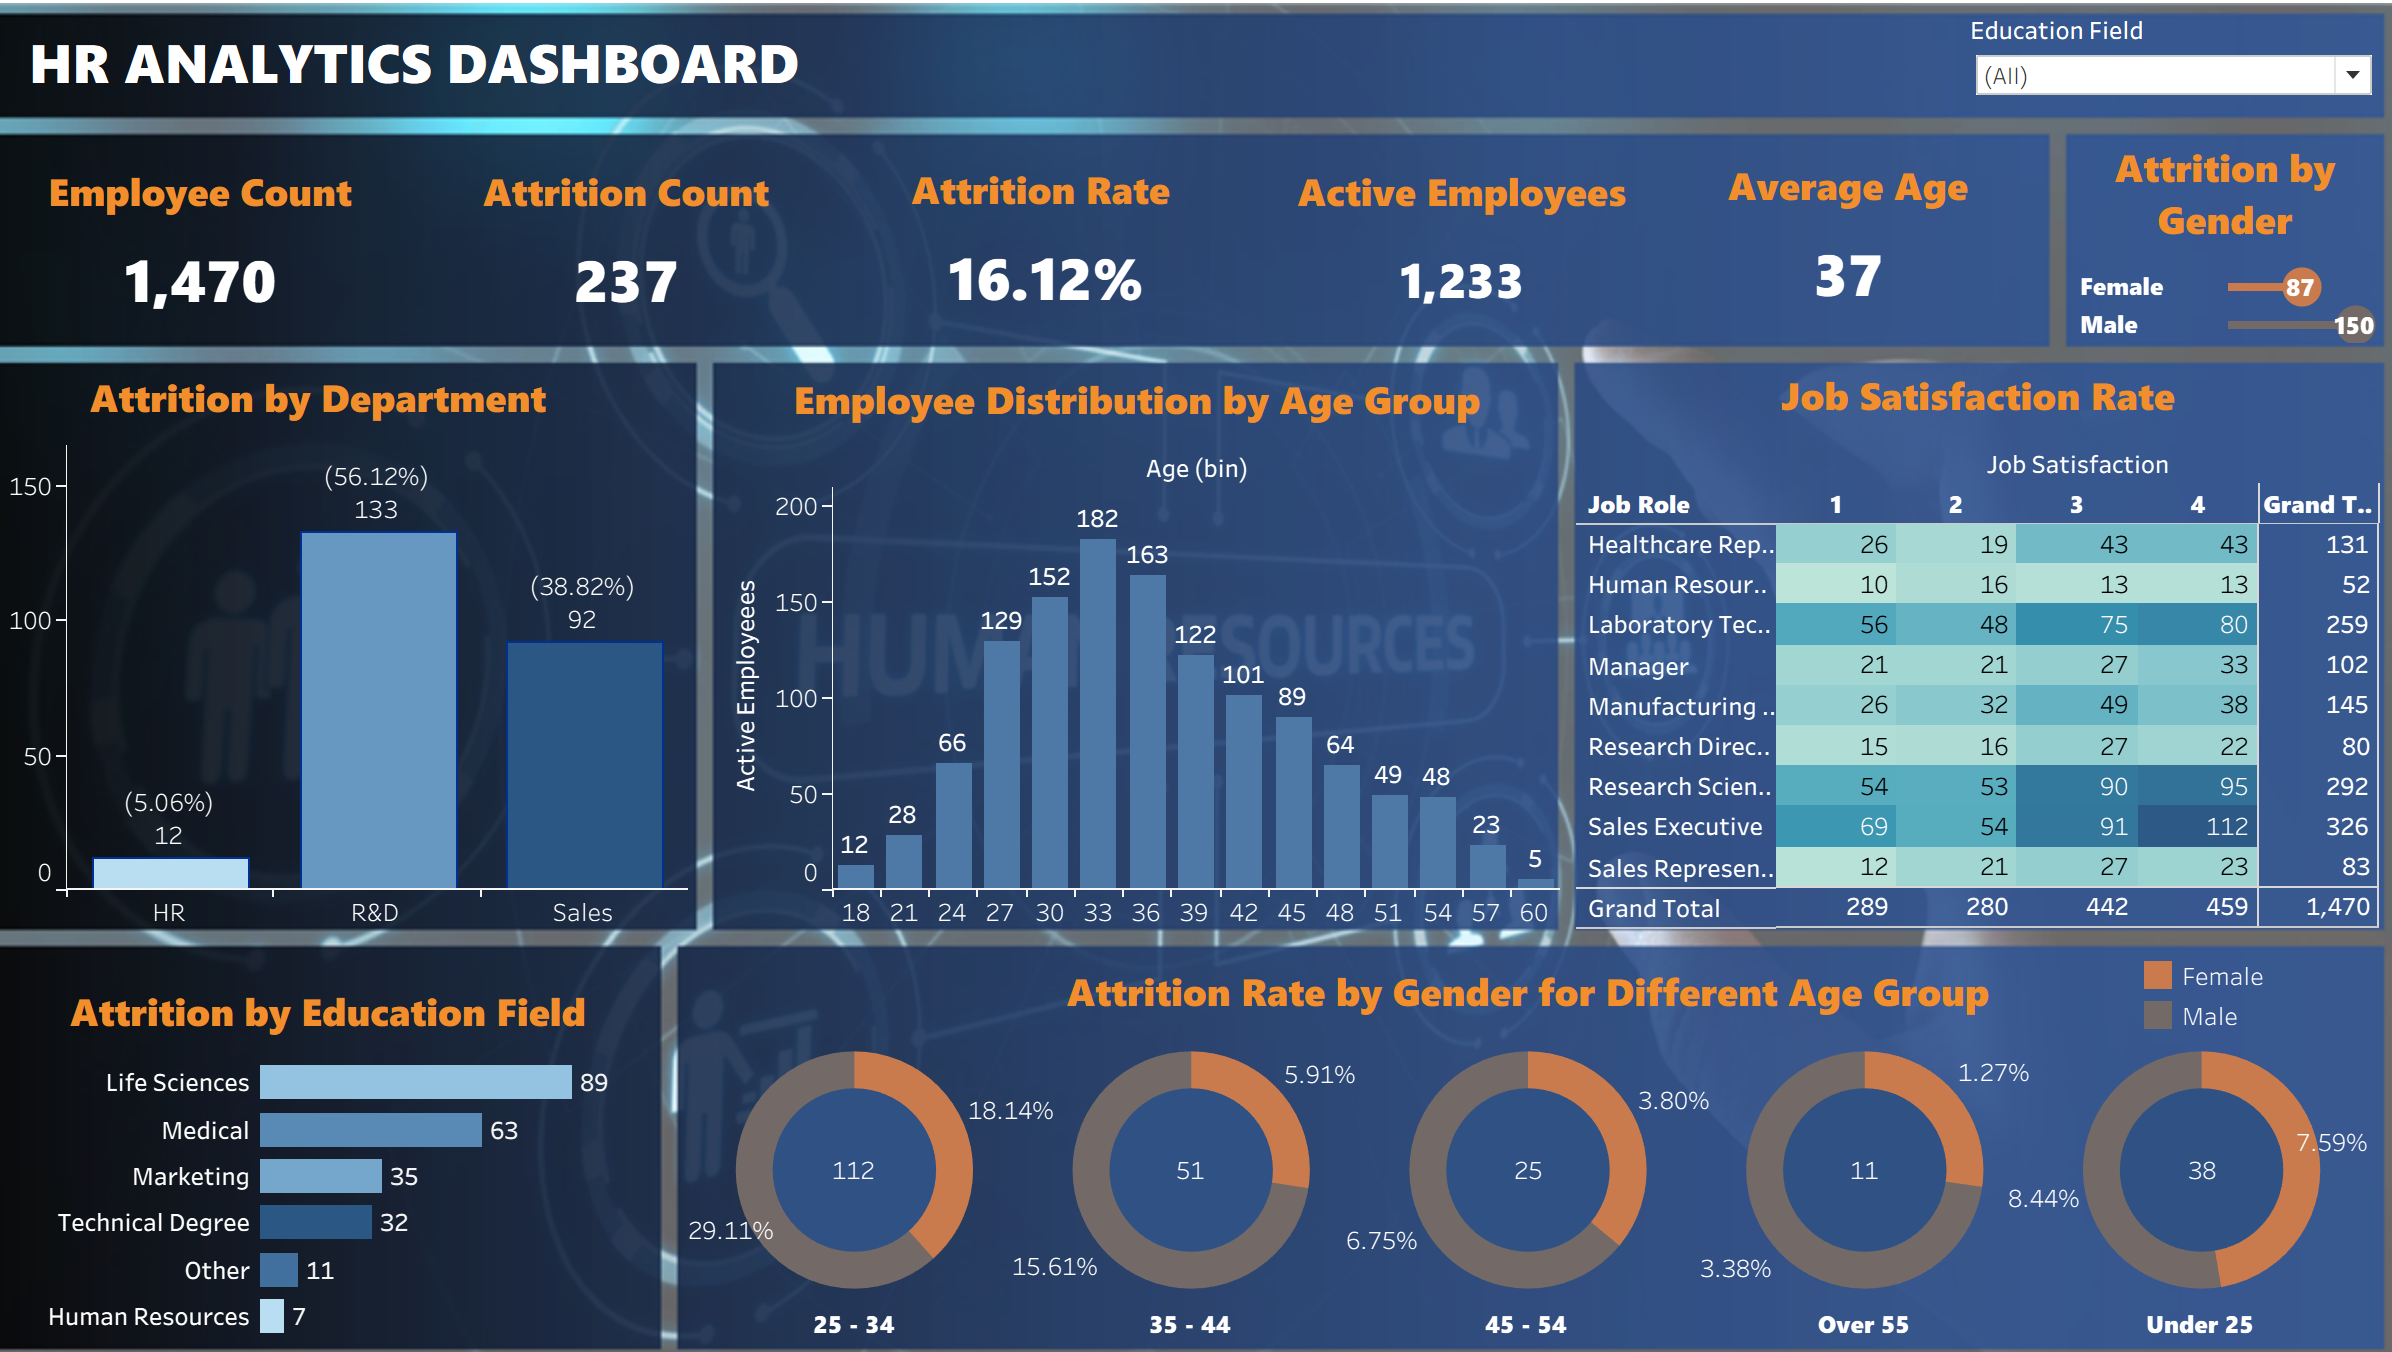

The page's visual inventory and layout, read from the dashboard file:
{"tool":"tableau","page":{"name":"HR Analytic Dashboard","canvas":[1000,1000],"units":"permille","ordinal":0},"visuals":[{"type":"text","box":[5.8,28.8,380,57.5]},{"type":"filter","title":"Education Field wise attrition","param":"[federated.08a7mfv0ucal841eq510g08nvt8x].[none:Education Field:nk]","box":[820,30,170,56.2]},{"type":"worksheet","title":"Attrition by Gender","mark":"Bar","rows":["Gender"],"cols":["Calculation_0202092340019200","Calculation_0202092340019200"],"box":[862.5,101.2,130.8,131.2]},{"type":"worksheet","title":"Attrition Rate","mark":"Automatic","box":[335.8,102.5,208.3,125]},{"type":"worksheet","title":"active employees","mark":"Automatic","box":[508.3,102.5,208.3,125]},{"type":"worksheet","title":"Average Age","mark":"Automatic","box":[685,102.5,171.7,130]},{"type":"worksheet","title":"Attrition Count","mark":"Automatic","box":[165,103.8,208.3,125]},{"type":"worksheet","title":"Job Satisfaction Rate","mark":"Square","rows":["Job Role"],"cols":["Job Satisfaction"],"box":[657.5,243.8,336.7,355]},{"type":"worksheet","title":"Number of employees by age","mark":"Automatic","rows":["Calculation_0202092341493762"],"cols":["Age (bin)"],"box":[297.5,246.2,351.7,353.8]},{"type":"worksheet","title":"Attrition rate by gender for diff age groups","mark":"Pie","rows":["Calculation_1246631718977538","Calculation_1246631719534596"],"cols":["CF_age band"],"box":[285,613.8,705,245]},{"type":"legend","title":"Attrition rate by gender for diff age groups","param":"[federated.08a7mfv0ucal841eq510g08nvt8x].[none:Gender:nk]","box":[891.7,615,95.8,50]},{"type":"worksheet","title":"Education Field wise attrition","mark":"Automatic","rows":["Education Field"],"cols":["Calculation_0202092340019200"],"box":[0.8,616.2,273.3,251.2]}]}

Visuals, with their boxes on the dashboard's canvas, which has no fixed pixel size, in thousandths of its width and height (x1, y1, x2, y2). These are canvas units, not pixel positions in the 2392x1352 screenshot, which may show the page scaled, cropped or inside an application window:
text: x1=6 y1=29 x2=386 y2=86
"Education Field wise attrition" filter: x1=820 y1=30 x2=990 y2=86
"Attrition by Gender" worksheet (Bar marks): x1=862 y1=101 x2=993 y2=232
"Attrition Rate" worksheet: x1=336 y1=102 x2=544 y2=228
"active employees" worksheet: x1=508 y1=102 x2=717 y2=228
"Average Age" worksheet: x1=685 y1=102 x2=857 y2=232
"Attrition Count" worksheet: x1=165 y1=104 x2=373 y2=229
"Job Satisfaction Rate" worksheet (Square marks): x1=658 y1=244 x2=994 y2=599
"Number of employees by age" worksheet: x1=298 y1=246 x2=649 y2=600
"Attrition rate by gender for diff age groups" worksheet (Pie marks): x1=285 y1=614 x2=990 y2=859
"Attrition rate by gender for diff age groups" legend: x1=892 y1=615 x2=988 y2=665
"Education Field wise attrition" worksheet: x1=1 y1=616 x2=274 y2=867
